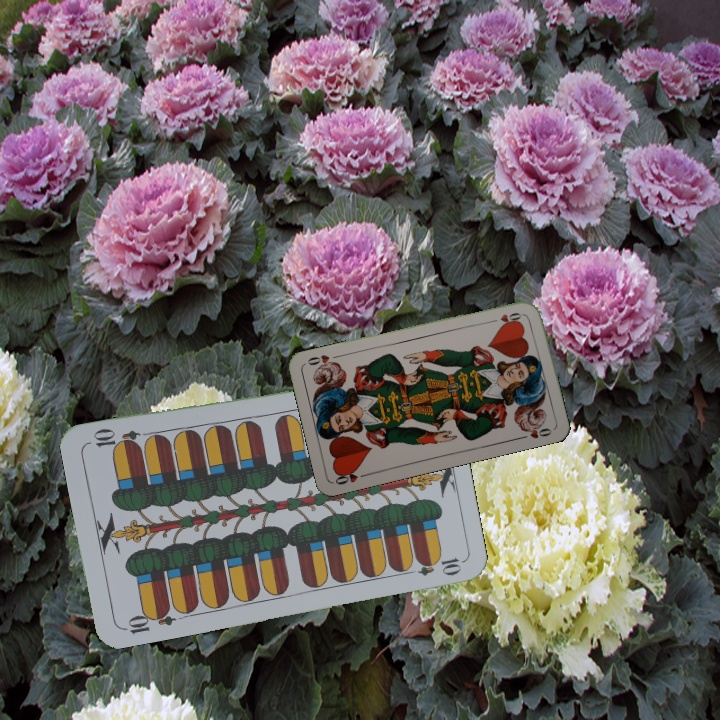E10: (119, 603, 177, 637)
HO: (331, 465, 371, 487), (486, 308, 526, 326)
